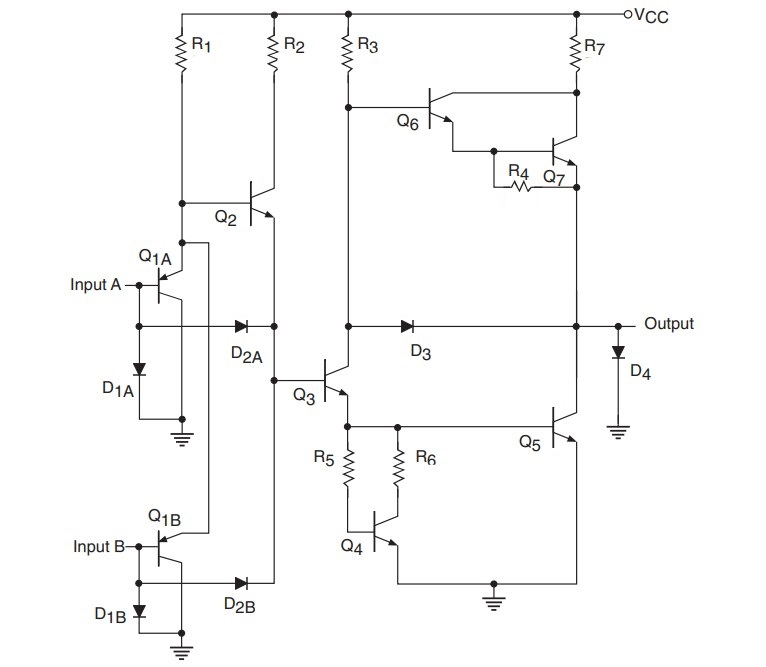diode: (231, 315, 254, 336), (396, 315, 419, 336), (130, 357, 150, 381), (230, 572, 252, 592), (610, 341, 629, 363), (131, 599, 149, 622)
gnd: (168, 428, 196, 451), (604, 420, 633, 442), (480, 593, 509, 614), (168, 644, 195, 662)
npn: (545, 402, 582, 453), (245, 173, 279, 228), (320, 356, 354, 407), (369, 505, 403, 555), (426, 82, 458, 133), (548, 133, 582, 171)
pnp: (153, 526, 190, 571), (155, 263, 187, 310)
resistor: (171, 28, 196, 79), (337, 27, 360, 74), (568, 30, 589, 77), (389, 443, 409, 491), (264, 30, 284, 77), (340, 441, 358, 492), (503, 178, 539, 196)
